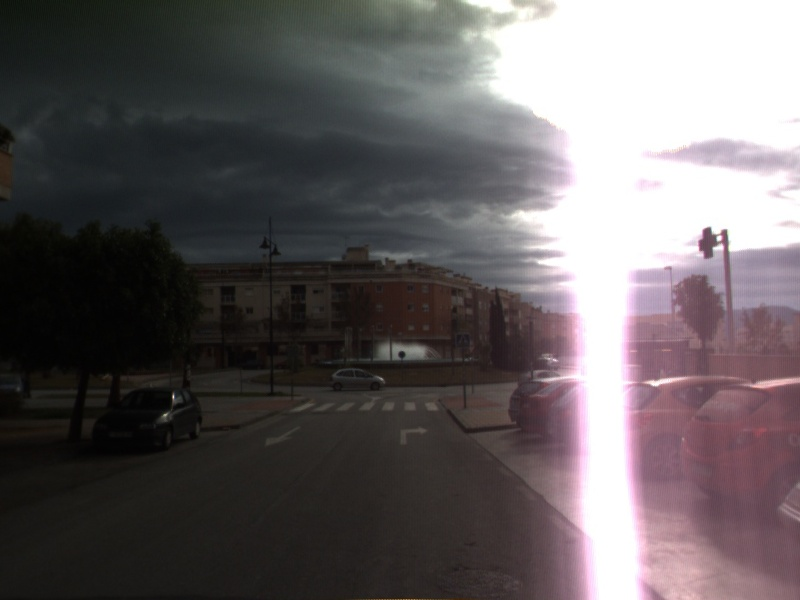RIGHT: (398, 423, 431, 447)
